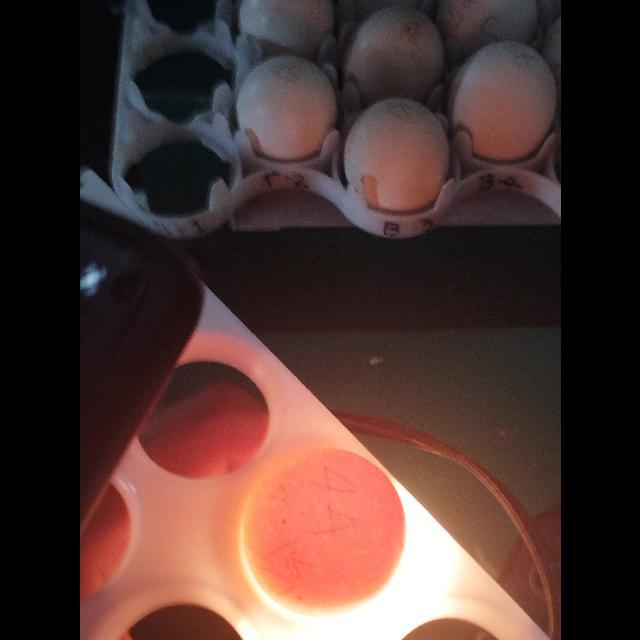Infertile: (240, 445, 406, 621)
